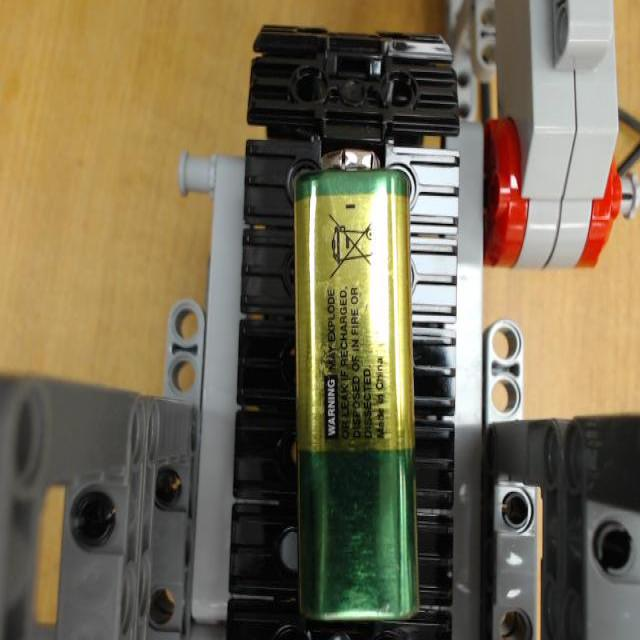9V: (292, 142, 423, 621)
